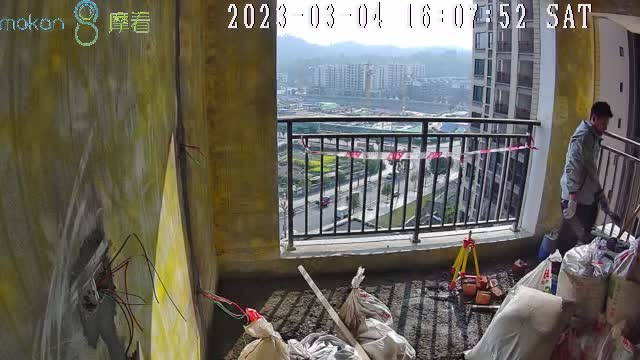people: (561, 103, 616, 244)
window: (277, 2, 533, 240)
